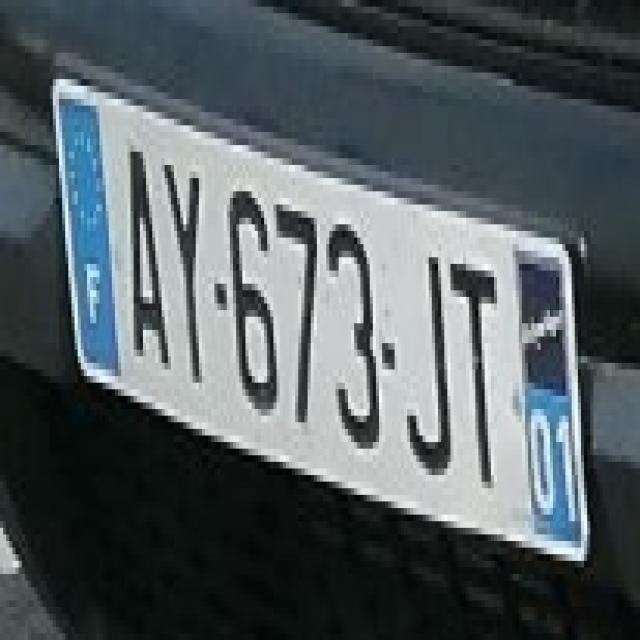EU: (53, 85, 585, 560)
France: (56, 90, 122, 374)
